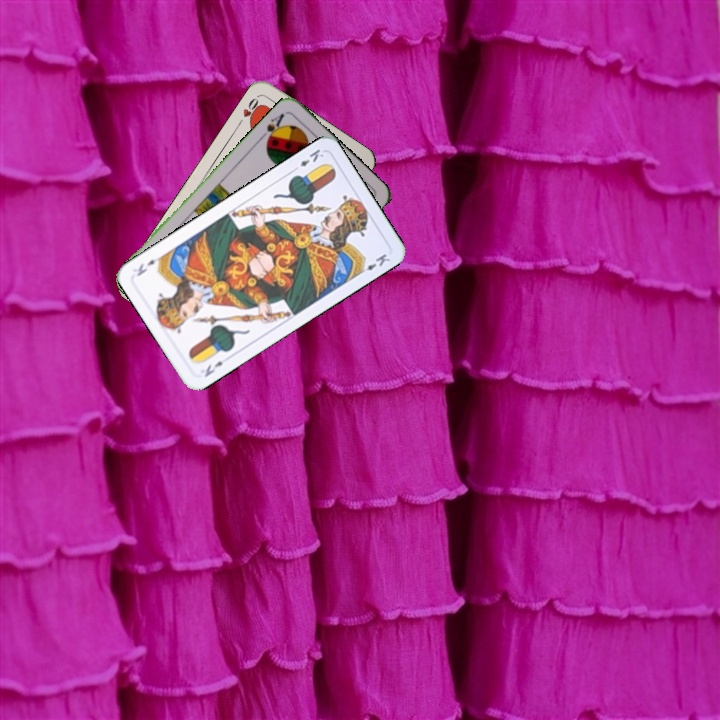EK: (288, 145, 327, 174), (200, 357, 226, 380)
HO: (234, 92, 264, 129)
SA: (257, 109, 287, 146)
